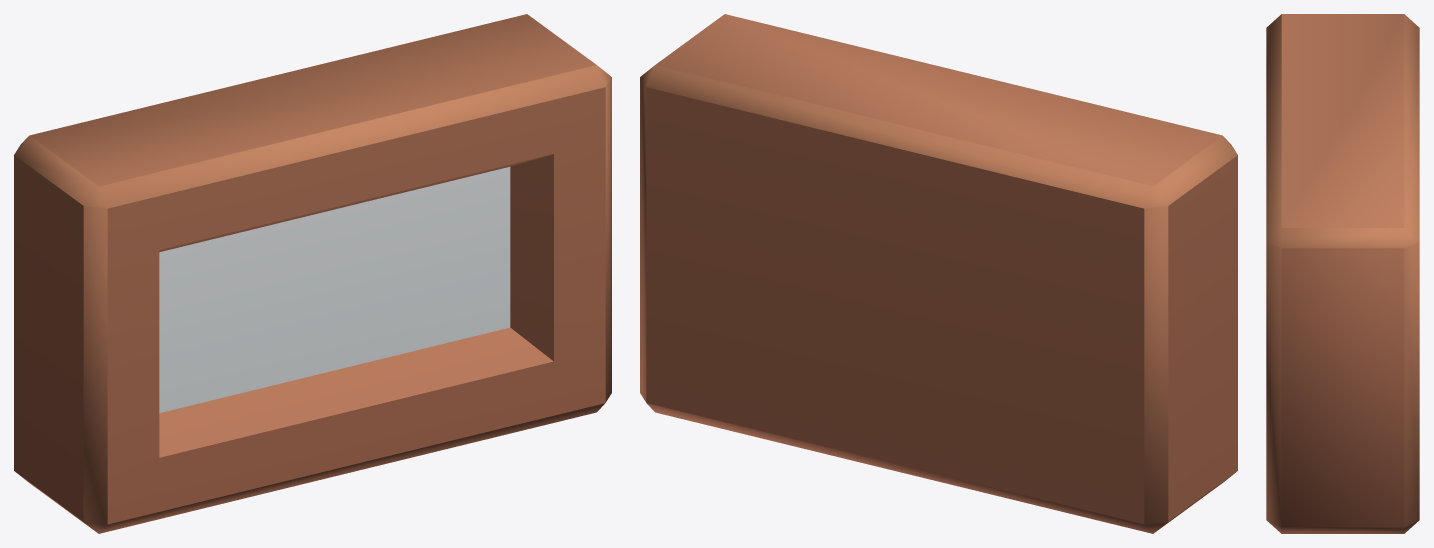
3 renders of one model, left to right at view 1: azimuth 30°, elevation 25°; view 2: azimuth 150°, elevation 25°; view 3: azimuth 270°, elevation 25°, orthographic. The views are drawn at different scales.
Visible parts, largest first — view 1: pictureframe_small_B; view 2: pictureframe_small_B; view 3: pictureframe_small_B.
Part boxes in pixels (left/top/right/bottom): pictureframe_small_B: left=14, top=14, right=611, bottom=533; pictureframe_small_B: left=640, top=14, right=1237, bottom=533; pictureframe_small_B: left=1266, top=14, right=1419, bottom=533.
Size of the model in its own units: 0.7 by 0.44 by 0.2.
Materials: 1 (1 with a texture image).
